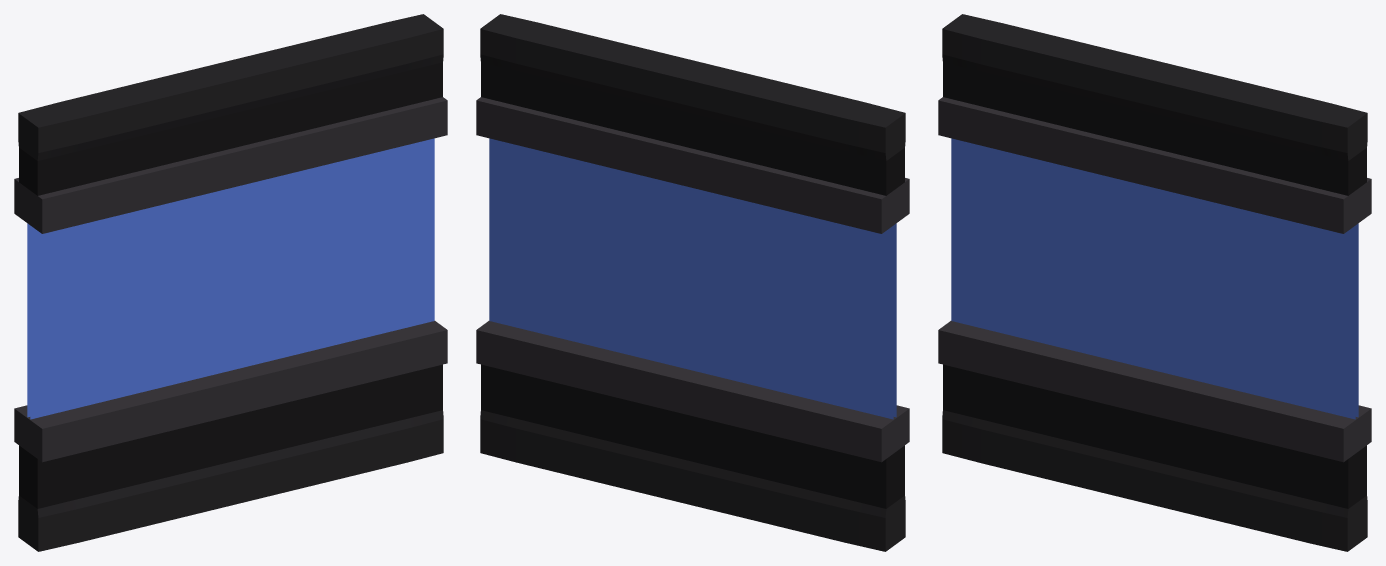
The model's file is Wall_Window_Middle.fbx.
The picture shows the model from 3 angles, left to right: view 1: azimuth 30°, elevation 25°; view 2: azimuth 150°, elevation 25°; view 3: azimuth 330°, elevation 25°; orthographic projection.
Visible parts, largest first — view 1: polySurface28; view 2: polySurface28; view 3: polySurface28.
Boxes of the visible parts, box(x1,y1,x2,y2) form: polySurface28: box(14, 14, 447, 551); polySurface28: box(476, 14, 909, 551); polySurface28: box(938, 14, 1371, 551).
Bounding box in the file's own units: 500 × 500 × 59.69.
